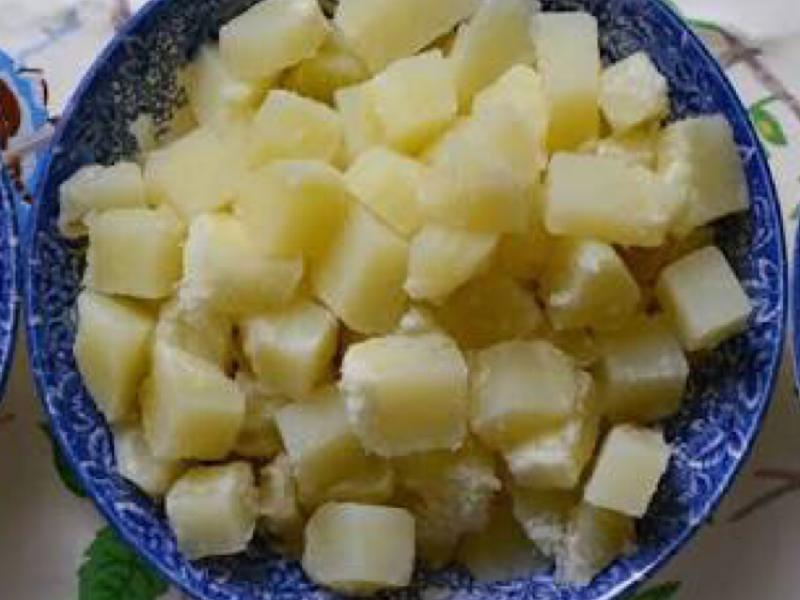boiled potatoes: (146, 18, 612, 526)
